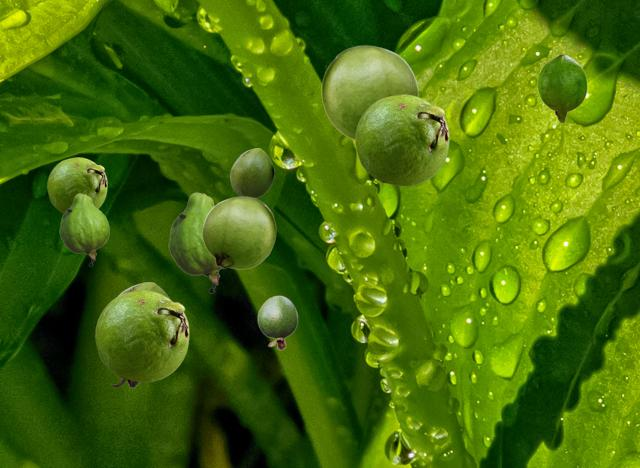guava: (321, 45, 417, 140), (355, 94, 448, 185), (95, 290, 188, 381), (110, 282, 170, 387), (168, 192, 221, 292), (202, 196, 275, 268), (59, 193, 108, 265), (537, 54, 586, 122), (47, 157, 106, 213), (257, 295, 297, 349), (230, 148, 273, 198)
